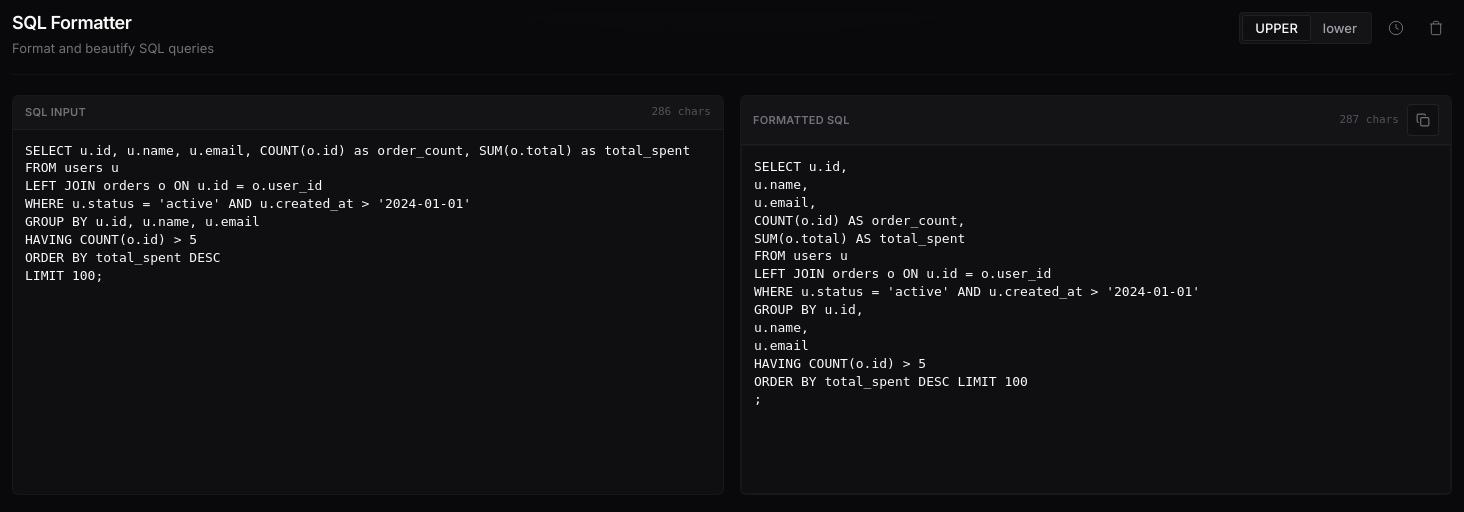
Scenario: SqlTool › should debounce input processing
Click the button named "Clear". click: coordinates (1436, 28)
box: [1420,12,1452,44]
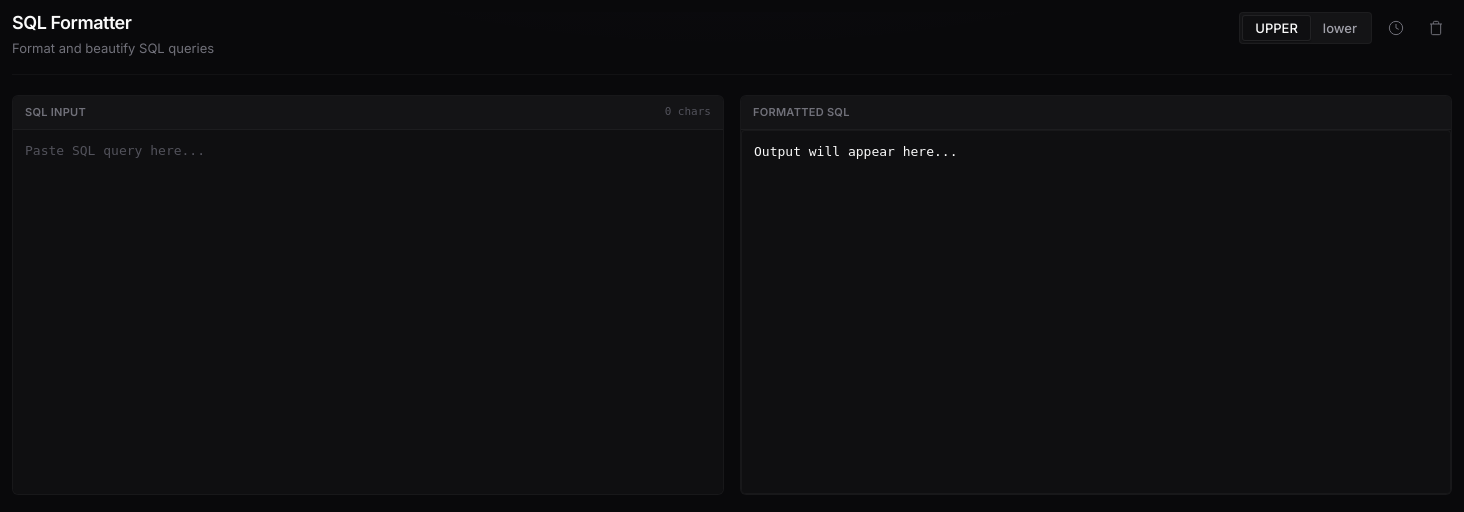
Type "SEL" into the text box named "SQL Input". click: coordinates (368, 312)
box: [13,130,723,494]
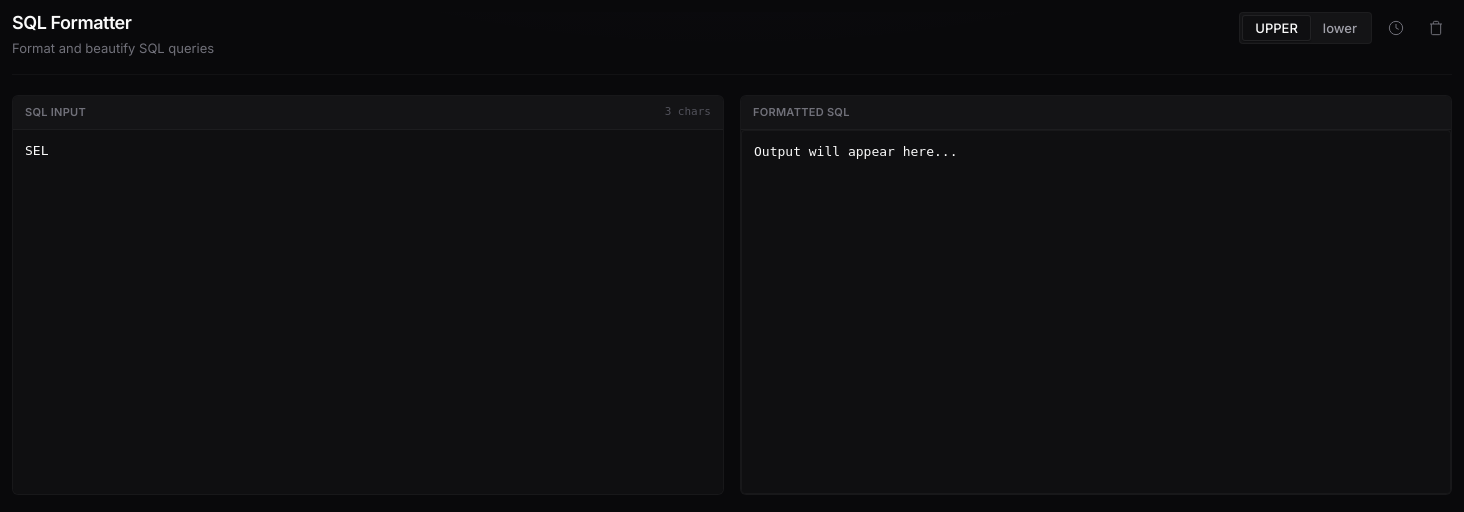
Expected: the text with class "output-display" does not show "FROM"
Replace the text in the text box named "SQL Input" with "SELECT * F". click: coordinates (368, 312)
box: [13,130,723,494]
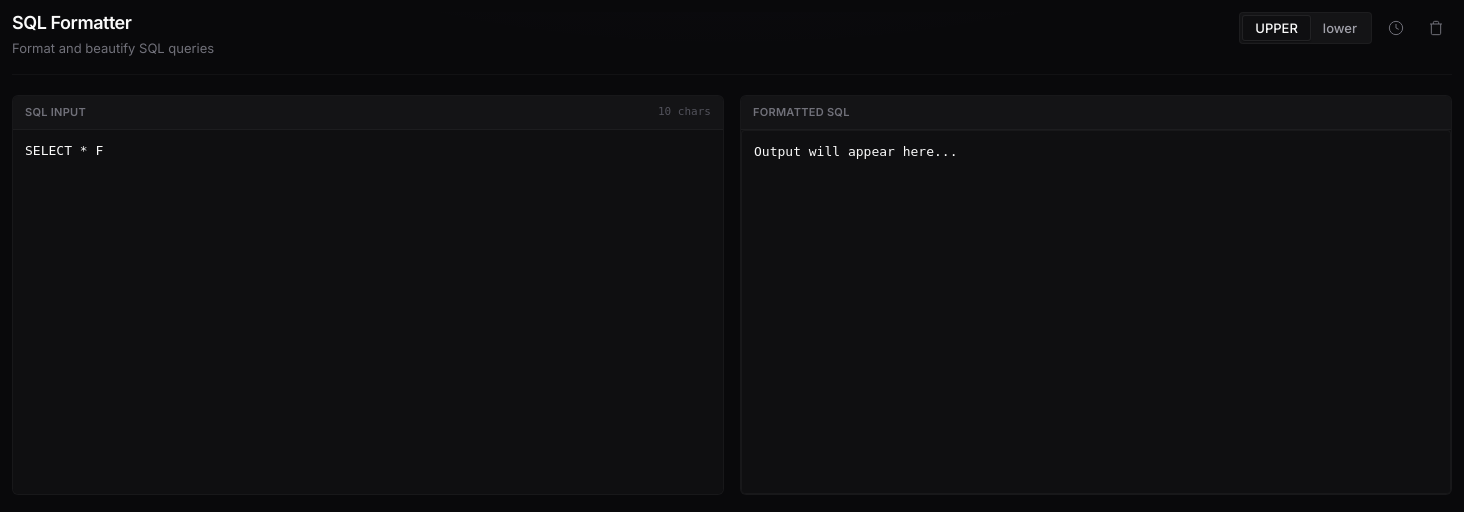
Replace the text in the text box named "SQL Input" with "SELECT * FROM users". click: coordinates (368, 312)
box: [13,130,723,494]
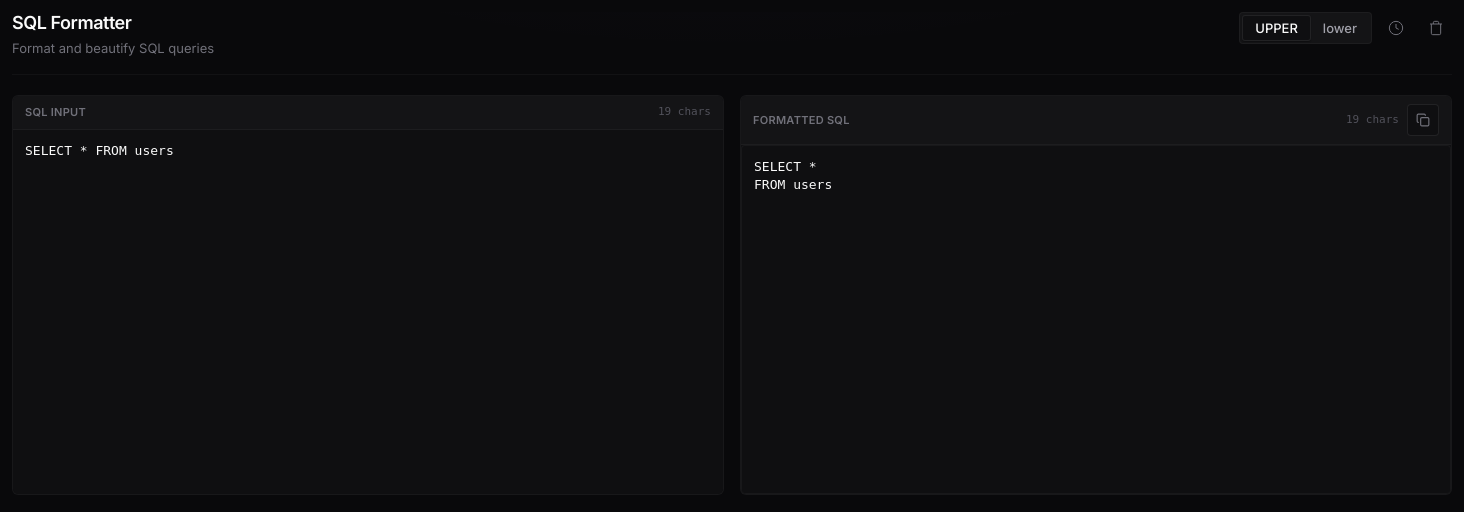
Result: the text with class "output-display" shows "FROM" at [754,159,832,192]
